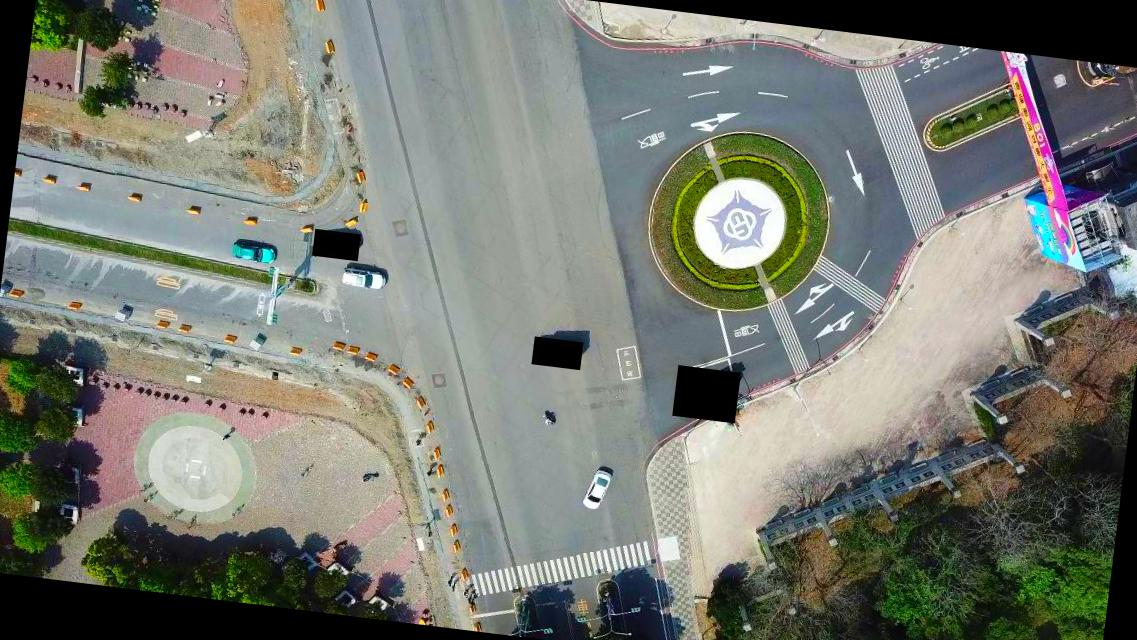vehicle: (581, 468, 612, 510), (340, 264, 386, 291), (231, 240, 277, 264)
